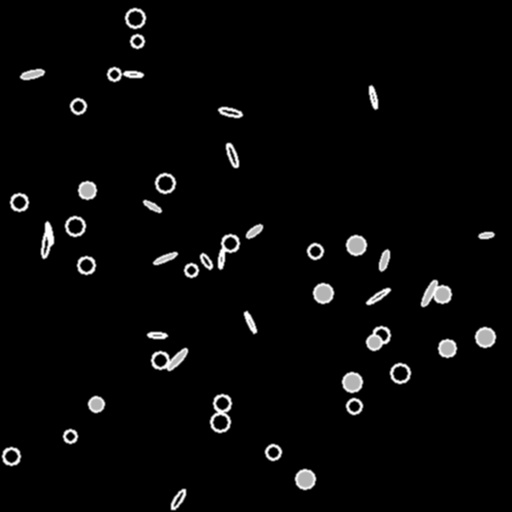pseudomonas: (166, 347, 188, 371), (420, 279, 438, 307), (366, 287, 390, 305), (169, 488, 187, 510), (153, 251, 177, 265), (225, 143, 239, 167), (243, 310, 257, 334), (41, 228, 51, 258), (245, 223, 263, 239), (21, 68, 43, 80), (219, 106, 241, 118), (378, 249, 390, 271), (143, 199, 161, 213), (199, 252, 213, 270), (368, 85, 378, 109), (44, 221, 54, 245), (217, 249, 225, 269), (478, 231, 494, 239), (123, 71, 143, 77), (148, 332, 166, 338)
synechocystis: (296, 470, 314, 488), (314, 284, 332, 302), (347, 236, 365, 254), (391, 364, 409, 382), (211, 413, 229, 431), (156, 174, 174, 192), (476, 328, 494, 346), (66, 217, 84, 235), (126, 9, 144, 27), (343, 373, 361, 391), (214, 395, 230, 411), (152, 352, 168, 368), (434, 286, 450, 302), (373, 327, 389, 343), (439, 340, 455, 356), (78, 257, 94, 273), (11, 194, 27, 210), (79, 182, 95, 198), (222, 235, 238, 251), (3, 448, 19, 464), (308, 244, 322, 258), (347, 399, 361, 413), (367, 335, 381, 349), (89, 397, 103, 411), (71, 99, 85, 113), (266, 445, 280, 459), (131, 35, 143, 47), (108, 68, 120, 80), (185, 264, 197, 276), (64, 430, 76, 442)
